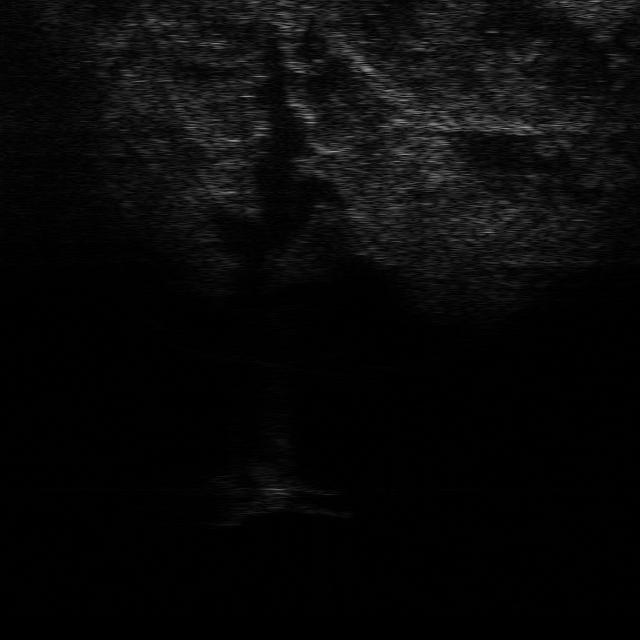plane: (211, 466, 350, 522)
